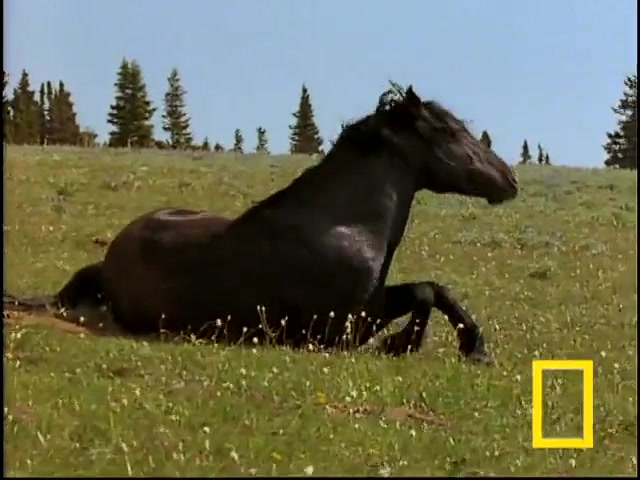horse: (7, 83, 521, 366)
